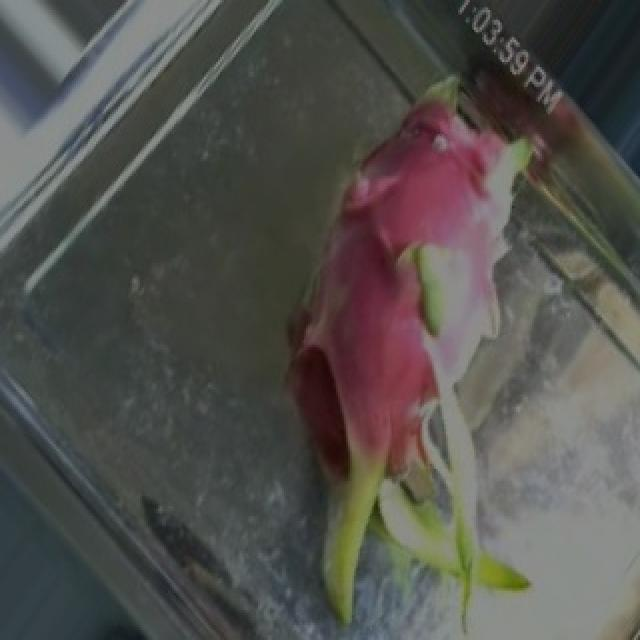fruit: (198, 208, 624, 638), (220, 8, 638, 432)
